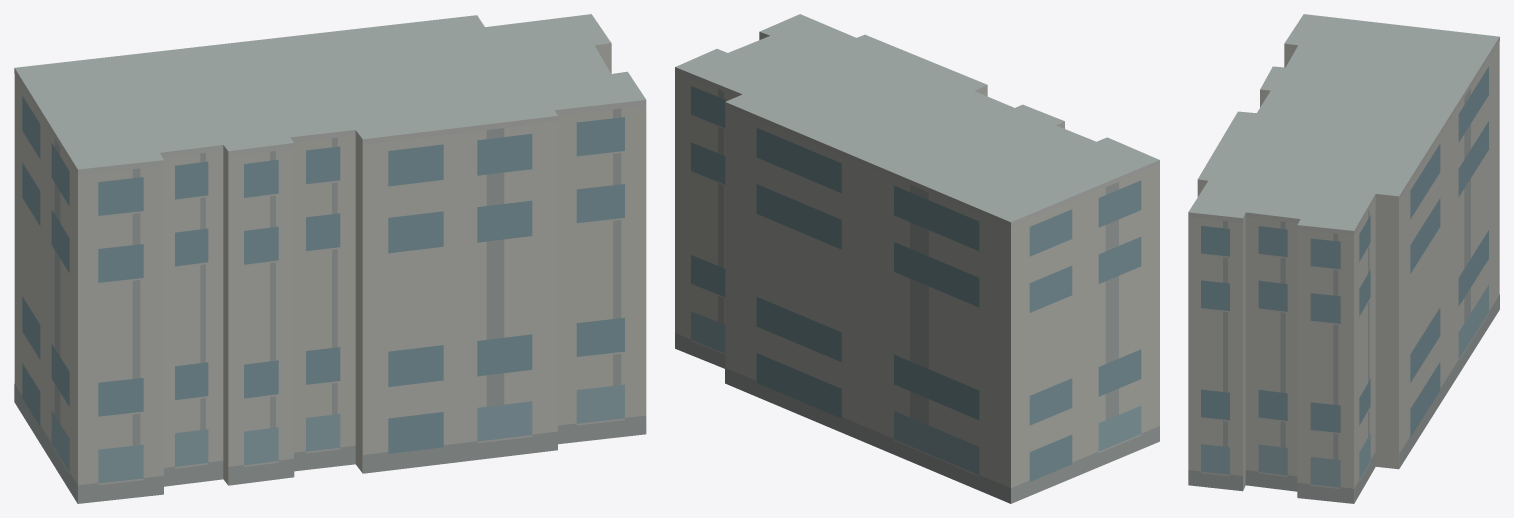
File: survey-upis-32575490.glb
3 views of the same model, side by side, from view 1: azimuth 30°, elevation 25°; view 2: azimuth 150°, elevation 25°; view 3: azimuth 270°, elevation 25° (orthographic). The views are drawn at different scales.
Parts seen in each view (by area): view 1: survey-upis-32575490.tmp; view 2: survey-upis-32575490.tmp; view 3: survey-upis-32575490.tmp.
Boxes of the visible parts, box(x1,y1,x2,y2) form: survey-upis-32575490.tmp: box(14, 14, 646, 503); survey-upis-32575490.tmp: box(675, 14, 1159, 503); survey-upis-32575490.tmp: box(1188, 14, 1499, 503).
Size of the model in its own units: 24.22 by 14.2 by 14.7.
